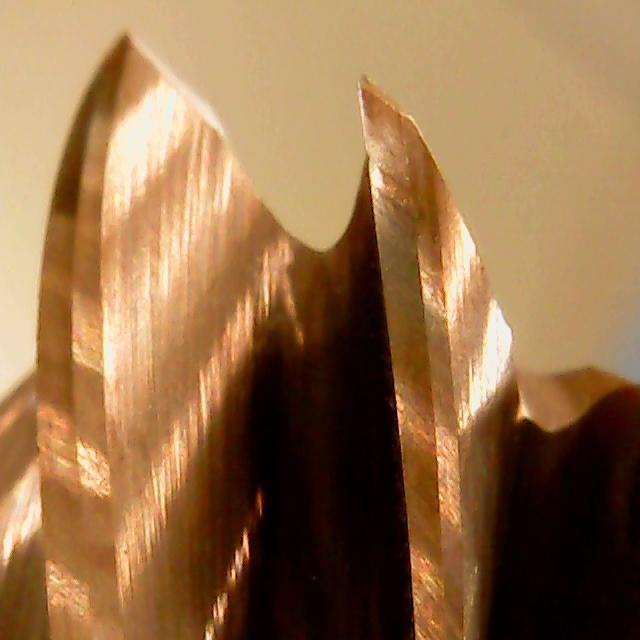Tool-wear-class-0: (348, 68, 452, 392)
